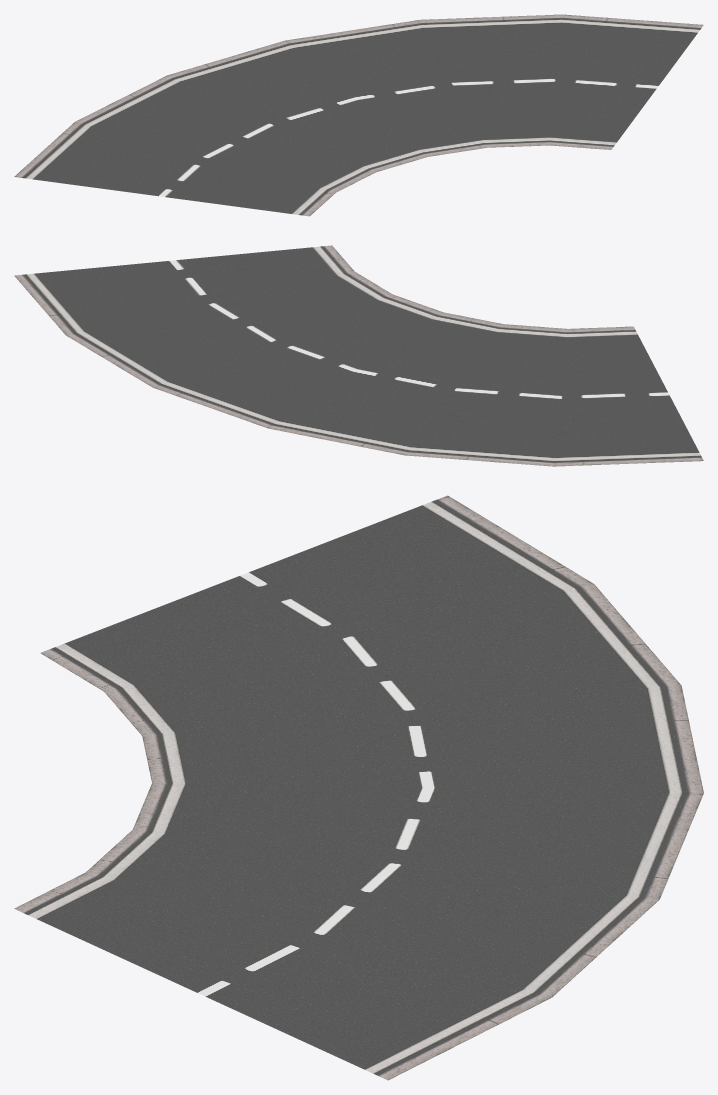
File: 2 lines corner without path.FBX
3 views of the same model, one above another, from view 1: azimuth 30°, elevation 25°; view 2: azimuth 150°, elevation 25°; view 3: azimuth 270°, elevation 25° (orthographic). The views are drawn at different scales.
Parts seen in each view (by area): view 1: Object181; view 2: Object181; view 3: Object181.
Boxes of the visible parts, <box> form: Object181: <box>14,14,703,216</box>; Object181: <box>14,245,703,466</box>; Object181: <box>14,495,703,1080</box>.
Bounding box in the file's own units: 30.07 × 1.12e-06 × 14.99.
